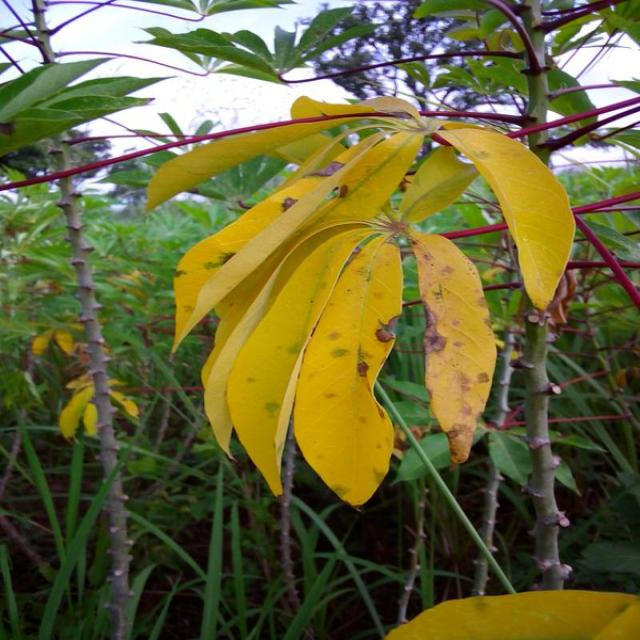cassava leaf: (145, 94, 577, 507), (436, 118, 578, 312), (409, 228, 498, 465)
